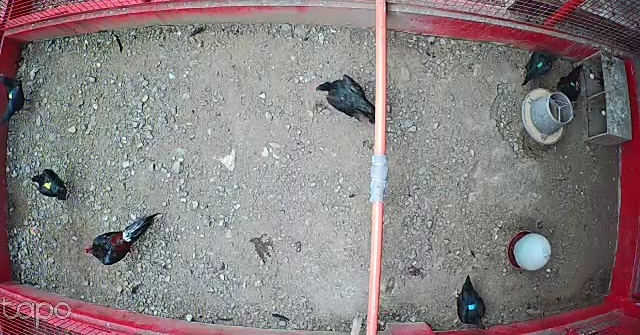Chicken: (315, 72, 378, 123), (445, 271, 494, 335), (0, 73, 32, 127), (557, 61, 589, 111), (28, 166, 69, 202), (521, 51, 559, 86)
Rooster: (85, 208, 164, 269)
Saddle_Color_Blue: (469, 303, 475, 311)
Saddle_Color_Yellow: (44, 181, 53, 189)
Saddle_Color_YellowGreen: (8, 89, 14, 99)
